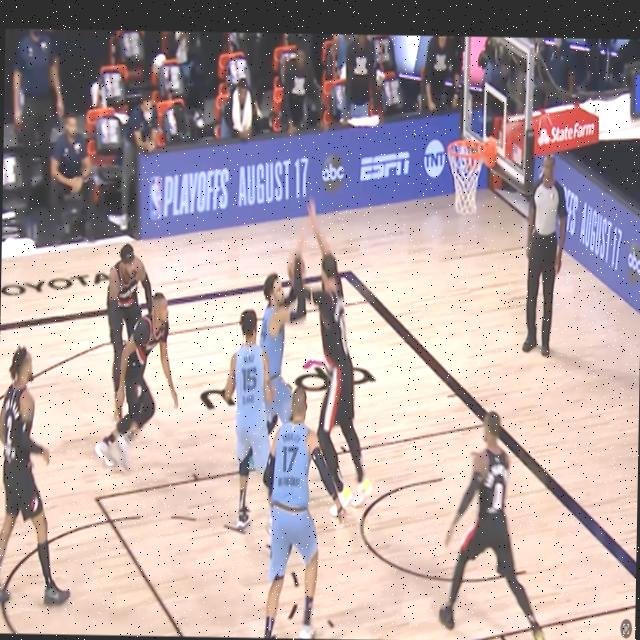no foul: (210, 247, 300, 536), (296, 208, 382, 503), (75, 228, 178, 460), (264, 378, 333, 636), (103, 303, 190, 479)
